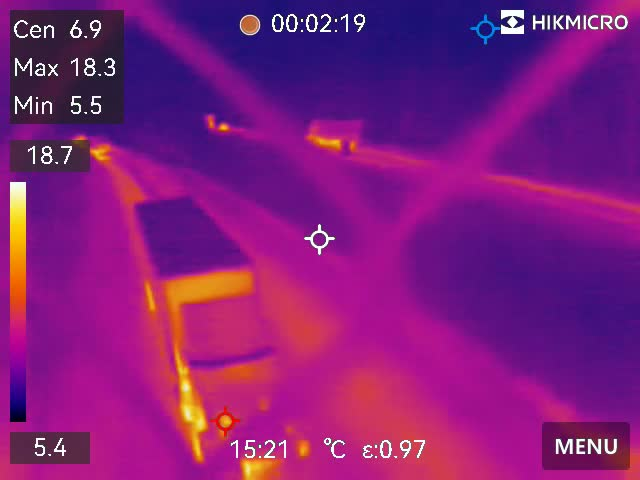heavyTruck: (121, 194, 312, 480), (299, 116, 367, 152)
